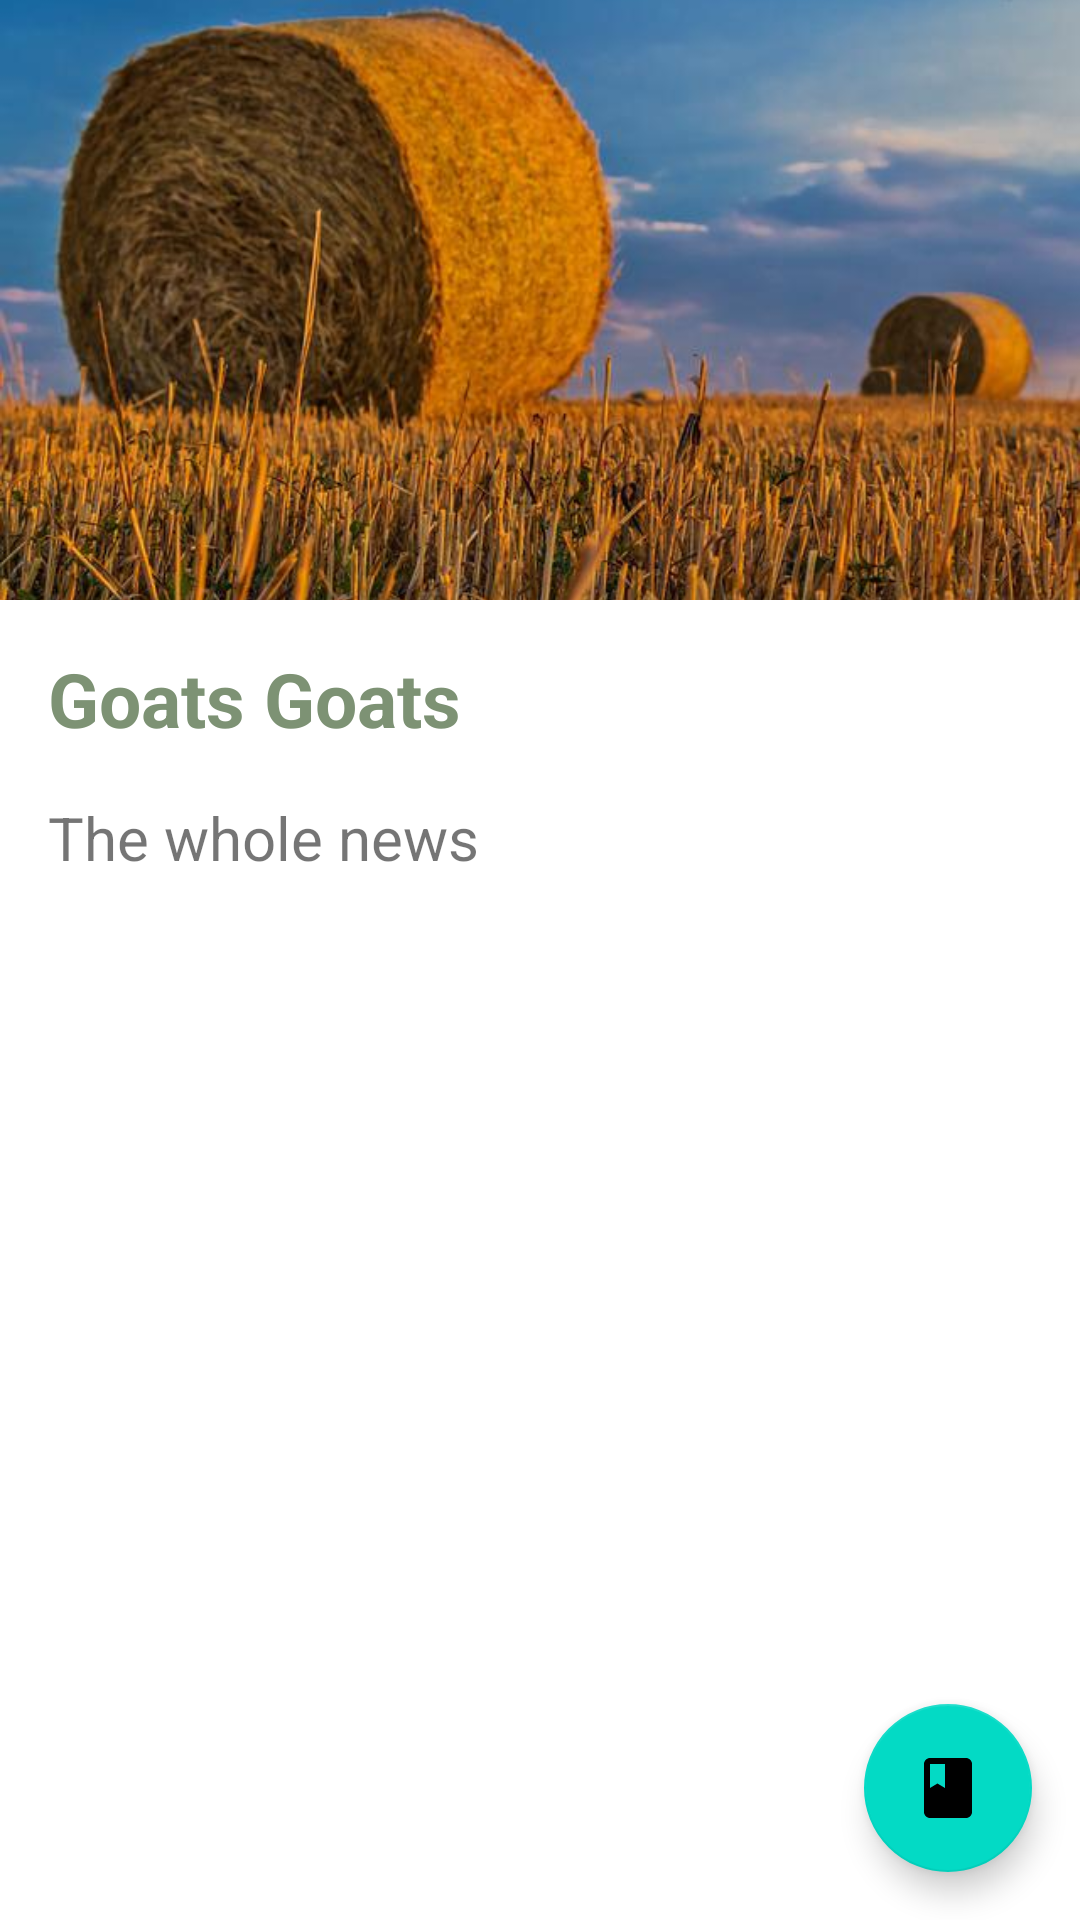

Locate icon controls on the screen. Image size 1080 × 1920, boxes as (x1, y1, x2, y2).
bookmark: (864, 1704, 1032, 1872)
